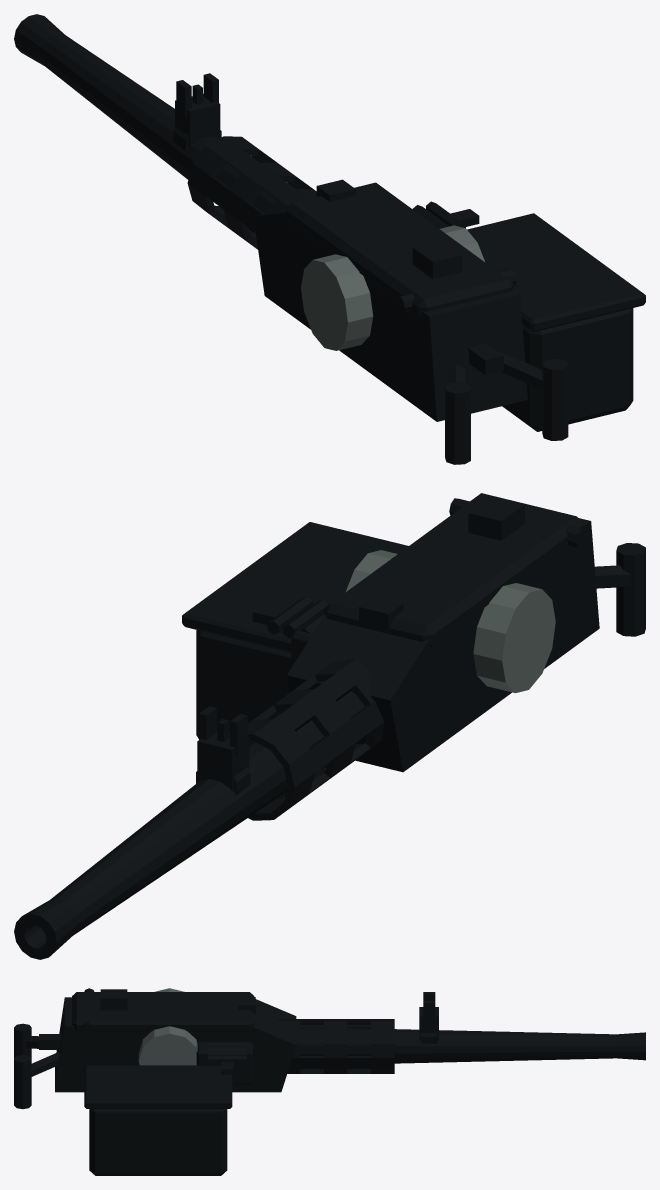
Rendered from Gun127__Pitch.obj.
3 renders of one model, top to bottom at view 1: azimuth 30°, elevation 25°; view 2: azimuth 150°, elevation 25°; view 3: azimuth 270°, elevation 25°, orthographic. The views are drawn at different scales.
Parts seen in each view (by area): view 1: Gun127_pitch, Pitch_trunnion; view 2: Gun127_pitch, Pitch_trunnion; view 3: Gun127_pitch, Pitch_trunnion.
Part boxes in pixels (x1,y1,x2,y2): Gun127_pitch: (14,14,645,464); Pitch_trunnion: (301,225,484,350); Gun127_pitch: (14,493,645,959); Pitch_trunnion: (345,550,555,693); Gun127_pitch: (14,988,645,1175); Pitch_trunnion: (138,988,197,1065).
Bounding box in the file's own units: 0.4749 × 0.3366 × 1.53.
